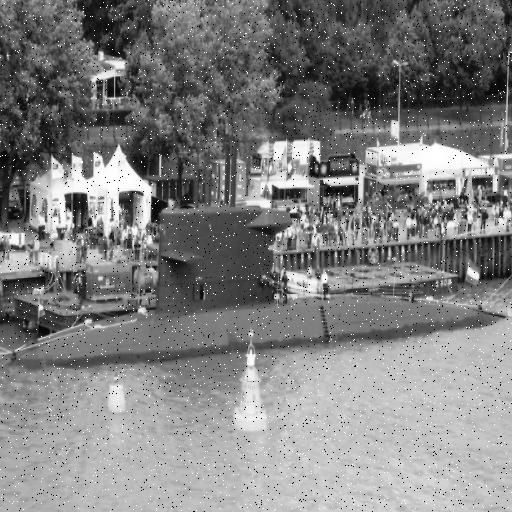submarine: (1, 206, 512, 372)
